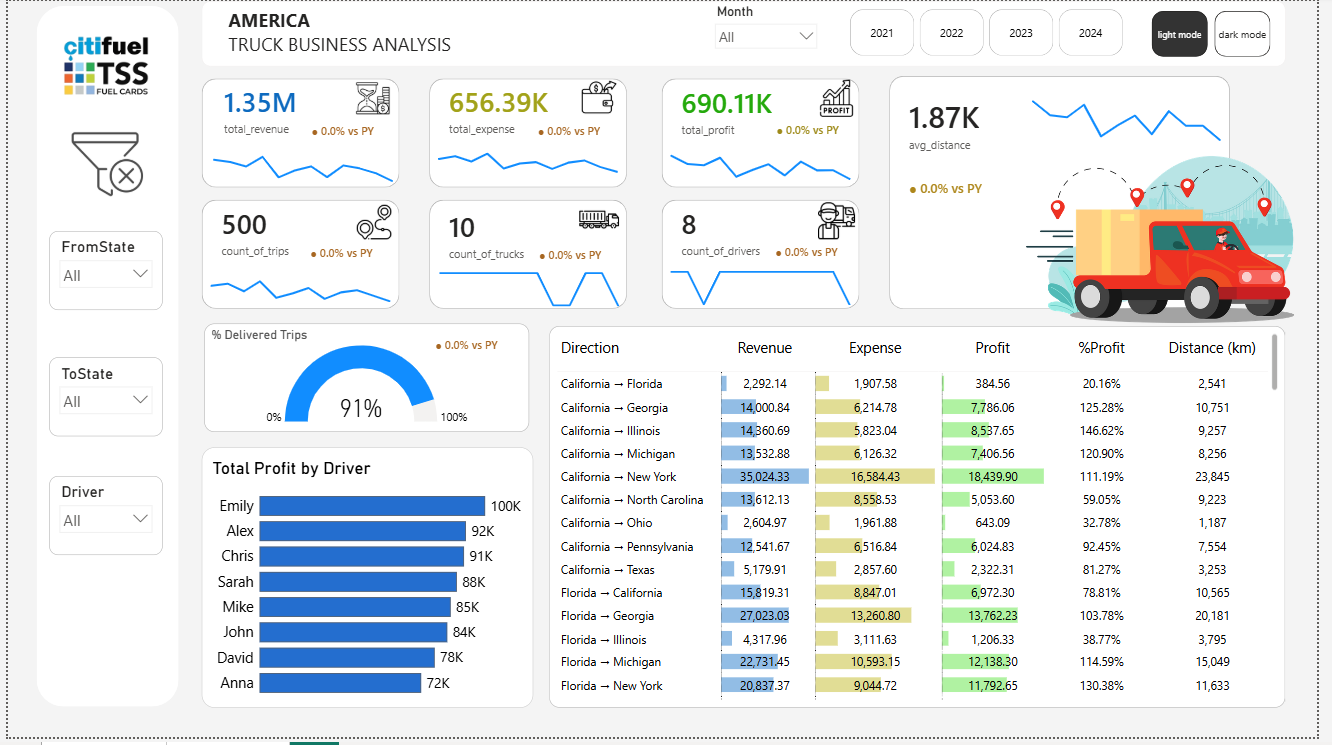

The page's visual inventory and layout, read from the dashboard file:
{"tool":"powerbi","page":{"name":"light mode","canvas":[1920,1080],"ordinal":0},"visuals":[{"type":"shape","box":[1294,110,500,342],"z":0},{"type":"shape","box":[618,292,290,160],"z":1000},{"type":"shape","box":[960,292,290,160],"z":2000},{"type":"shape","box":[960,114,290,160],"z":3000},{"type":"shape","box":[42,8,208,1028],"z":4000},{"type":"clusteredBarChart","title":"Total Profit by Driver","fields":{"Y":["measures (2).total_profit"],"Category":["Trip.Driver"]},"box":[284,654,486,382],"z":5000},{"type":"tableEx","fields":{"Values":["Trip.Direction","Sum(Trip.Revenue_$)","Sum(Trip.Expense_$)","Sum(Trip.Profit_$)","measures (2).profit_foizda","Sum(Trip.Distance_km)"]},"box":[794,476,1080,560],"z":6000},{"type":"image","box":[36,26,214,138],"z":7000},{"type":"gauge","fields":{"Y":["measures (2).% Delivered Trips"]},"box":[288,473.2,476.9,159.6],"z":8000},{"type":"image","box":[1462,190,458,318],"z":9000},{"type":"textbox","box":[284,0,1590,96],"z":10000},{"type":"slicer","fields":{"Values":["Trip.FromState"]},"box":[60.5,337.5,166,116],"z":11000},{"type":"slicer","fields":{"Values":["Trip.ToState"]},"box":[60.5,522.8,166,116],"z":12000},{"type":"slicer","fields":{"Values":["Trip.Driver"]},"box":[60.5,697,166,116],"z":13000},{"type":"image","box":[73.4,187.1,144.9,104.6],"z":14000},{"type":"slicer","fields":{"Values":["DateTable.MonthName"]},"box":[1028,0,170,86],"z":15000},{"type":"shape","box":[284.3,114.3,290,160],"z":16000},{"type":"cardVisual","fields":{"Data":["measures (2).total_profit"]},"box":[960,104,198.6,111.4],"z":17000},{"type":"cardVisual","fields":{"Data":["MeasureWithoutCard.Profit Trend"]},"box":[1098,158,180,58],"z":18000},{"type":"shape","box":[618.6,114.3,290,160],"z":19000},{"type":"shape","box":[285,292.5,290,160],"z":20000},{"type":"lineChart","fields":{"Y":["measures (2).total_profit"],"Category":["DateTable.MonthName"]},"box":[960,204,290,68],"z":21000},{"type":"cardVisual","fields":{"Data":["measures (2).total_expense"]},"box":[618,102,222,112],"z":22000},{"type":"cardVisual","fields":{"Data":["MeasureWithoutCard.Expense_Trend"]},"box":[748,160,180,58],"z":23000},{"type":"lineChart","fields":{"Y":["measures (2).total_expense"],"Category":["DateTable.MonthName"]},"box":[618,204,290,68],"z":24000},{"type":"cardVisual","fields":{"Data":["measures (2).total_revenue"]},"box":[288,102,246,112],"z":25000},{"type":"cardVisual","fields":{"Data":["MeasureWithoutCard.Revenue_Trend"]},"box":[417.2,160.4,180,58],"z":26000},{"type":"lineChart","fields":{"Y":["measures (2).total_revenue"],"Category":["DateTable.MonthName"]},"box":[287.2,204.4,290,68],"z":27000},{"type":"cardVisual","fields":{"Data":["measures (2).count_of_trips"]},"box":[284.4,282,198.6,111.4],"z":28000},{"type":"cardVisual","fields":{"Data":["MeasureWithoutCard.Trips_Trend"]},"box":[414.4,340,180,58],"z":29000},{"type":"lineChart","fields":{"Y":["measures (2).count_of_trips"],"Category":["DateTable.MonthName"]},"box":[284.4,384,290,68],"z":30000},{"type":"cardVisual","fields":{"Data":["measures (2).count_of_trucks"]},"box":[618,286,198.6,111.4],"z":31000},{"type":"cardVisual","fields":{"Data":["MeasureWithoutCard.Trucks_Trend"]},"box":[750,341.2,180,58],"z":32000},{"type":"lineChart","fields":{"Category":["DateTable.MonthName"],"Y":["measures (2).count_of_trucks"]},"box":[620,385.2,290,68],"z":33000},{"type":"cardVisual","fields":{"Data":["measures (2).count_of_drivers"]},"box":[959.3,283.3,198.6,111.4],"z":34000},{"type":"cardVisual","fields":{"Data":["MeasureWithoutCard.Drivers_Trend"]},"box":[1097.3,337.3,180,58],"z":35000},{"type":"lineChart","fields":{"Category":["DateTable.MonthName"],"Y":["measures (2).count_of_drivers"]},"box":[959.3,383.3,290,68],"z":36000},{"type":"cardVisual","fields":{"Data":["measures (2).avg_distance"]},"box":[1294,118,210,126],"z":37000},{"type":"lineChart","fields":{"Y":["measures (2).total_profit"],"Category":["DateTable.MonthName"]},"box":[1490,118,304,100],"z":38000},{"type":"cardVisual","fields":{"Data":["MeasureWithoutCard.Avg_distance_Trend"]},"box":[1294,244,180,58],"z":39000},{"type":"cardVisual","fields":{"Data":["MeasureWithoutCard.DelieveredTrips_Trend"]},"box":[597.2,472.4,180,58],"z":40000},{"type":"image","box":[508,116,54,54],"z":41000},{"type":"image","box":[840,114,54,54],"z":42000},{"type":"image","box":[1188,116,54,54],"z":43000},{"type":"image","box":[510,298,54,54],"z":44000},{"type":"image","box":[838,292,58,58],"z":45000},{"type":"image","box":[1188,296,54,54],"z":46000},{"type":"pageNavigator","box":[1678.3,14.7,174.3,67.9],"z":47000},{"type":"advancedSlicerVisual","fields":{"Values":["DateTable.Year"]},"box":[1230.8,7.3,410.9,78.9],"z":48000}]}

Visuals, with their boxes in screenshot pixels (x1, y1, x2, y2), scaled from the page's 1920x1080 canvas onto the 1332x745 screenshot:
shape: locate(898, 76, 1245, 312)
shape: locate(429, 201, 630, 312)
shape: locate(666, 201, 867, 312)
shape: locate(666, 79, 867, 189)
shape: locate(29, 6, 173, 715)
"Total Profit by Driver" clusteredBarChart: locate(197, 451, 534, 715)
tableEx - Trip.Direction x Sum(Trip.Revenue_$): locate(551, 328, 1300, 715)
image: locate(25, 18, 173, 113)
gauge - measures (2).% Delivered Trips: locate(200, 326, 531, 437)
image: locate(1014, 131, 1331, 350)
textbox: locate(197, 0, 1300, 66)
slicer - Trip.FromState: locate(42, 233, 157, 313)
slicer - Trip.ToState: locate(42, 361, 157, 441)
slicer - Trip.Driver: locate(42, 481, 157, 561)
image: locate(51, 129, 151, 201)
slicer - DateTable.MonthName: locate(713, 0, 831, 59)
shape: locate(197, 79, 398, 189)
cardVisual - measures (2).total_profit: locate(666, 72, 804, 149)
cardVisual - MeasureWithoutCard.Profit Trend: locate(762, 109, 887, 149)
shape: locate(429, 79, 630, 189)
shape: locate(198, 202, 399, 312)
lineChart - measures (2).total_profit x DateTable.MonthName: locate(666, 141, 867, 188)
cardVisual - measures (2).total_expense: locate(429, 70, 583, 148)
cardVisual - MeasureWithoutCard.Expense_Trend: locate(519, 110, 644, 150)
lineChart - measures (2).total_expense x DateTable.MonthName: locate(429, 141, 630, 188)
cardVisual - measures (2).total_revenue: locate(200, 70, 370, 148)
cardVisual - MeasureWithoutCard.Revenue_Trend: locate(289, 111, 414, 151)
lineChart - measures (2).total_revenue x DateTable.MonthName: locate(199, 141, 400, 188)
cardVisual - measures (2).count_of_trips: locate(197, 195, 335, 271)
cardVisual - MeasureWithoutCard.Trips_Trend: locate(287, 235, 412, 275)
lineChart - measures (2).count_of_trips x DateTable.MonthName: locate(197, 265, 398, 312)
cardVisual - measures (2).count_of_trucks: locate(429, 197, 567, 274)
cardVisual - MeasureWithoutCard.Trucks_Trend: locate(520, 235, 645, 275)
lineChart - DateTable.MonthName x measures (2).count_of_trucks: locate(430, 266, 631, 313)
cardVisual - measures (2).count_of_drivers: locate(666, 195, 803, 272)
cardVisual - MeasureWithoutCard.Drivers_Trend: locate(761, 233, 886, 273)
lineChart - DateTable.MonthName x measures (2).count_of_drivers: locate(666, 264, 867, 311)
cardVisual - measures (2).avg_distance: locate(898, 81, 1043, 168)
lineChart - measures (2).total_profit x DateTable.MonthName: locate(1034, 81, 1245, 150)
cardVisual - MeasureWithoutCard.Avg_distance_Trend: locate(898, 168, 1023, 208)
cardVisual - MeasureWithoutCard.DelieveredTrips_Trend: locate(414, 326, 539, 366)
image: locate(352, 80, 390, 117)
image: locate(583, 79, 620, 116)
image: locate(824, 80, 862, 117)
image: locate(354, 206, 391, 243)
image: locate(581, 201, 622, 241)
image: locate(824, 204, 862, 241)
pageNavigator: locate(1164, 10, 1285, 57)
advancedSlicerVisual - DateTable.Year: locate(854, 5, 1139, 59)
